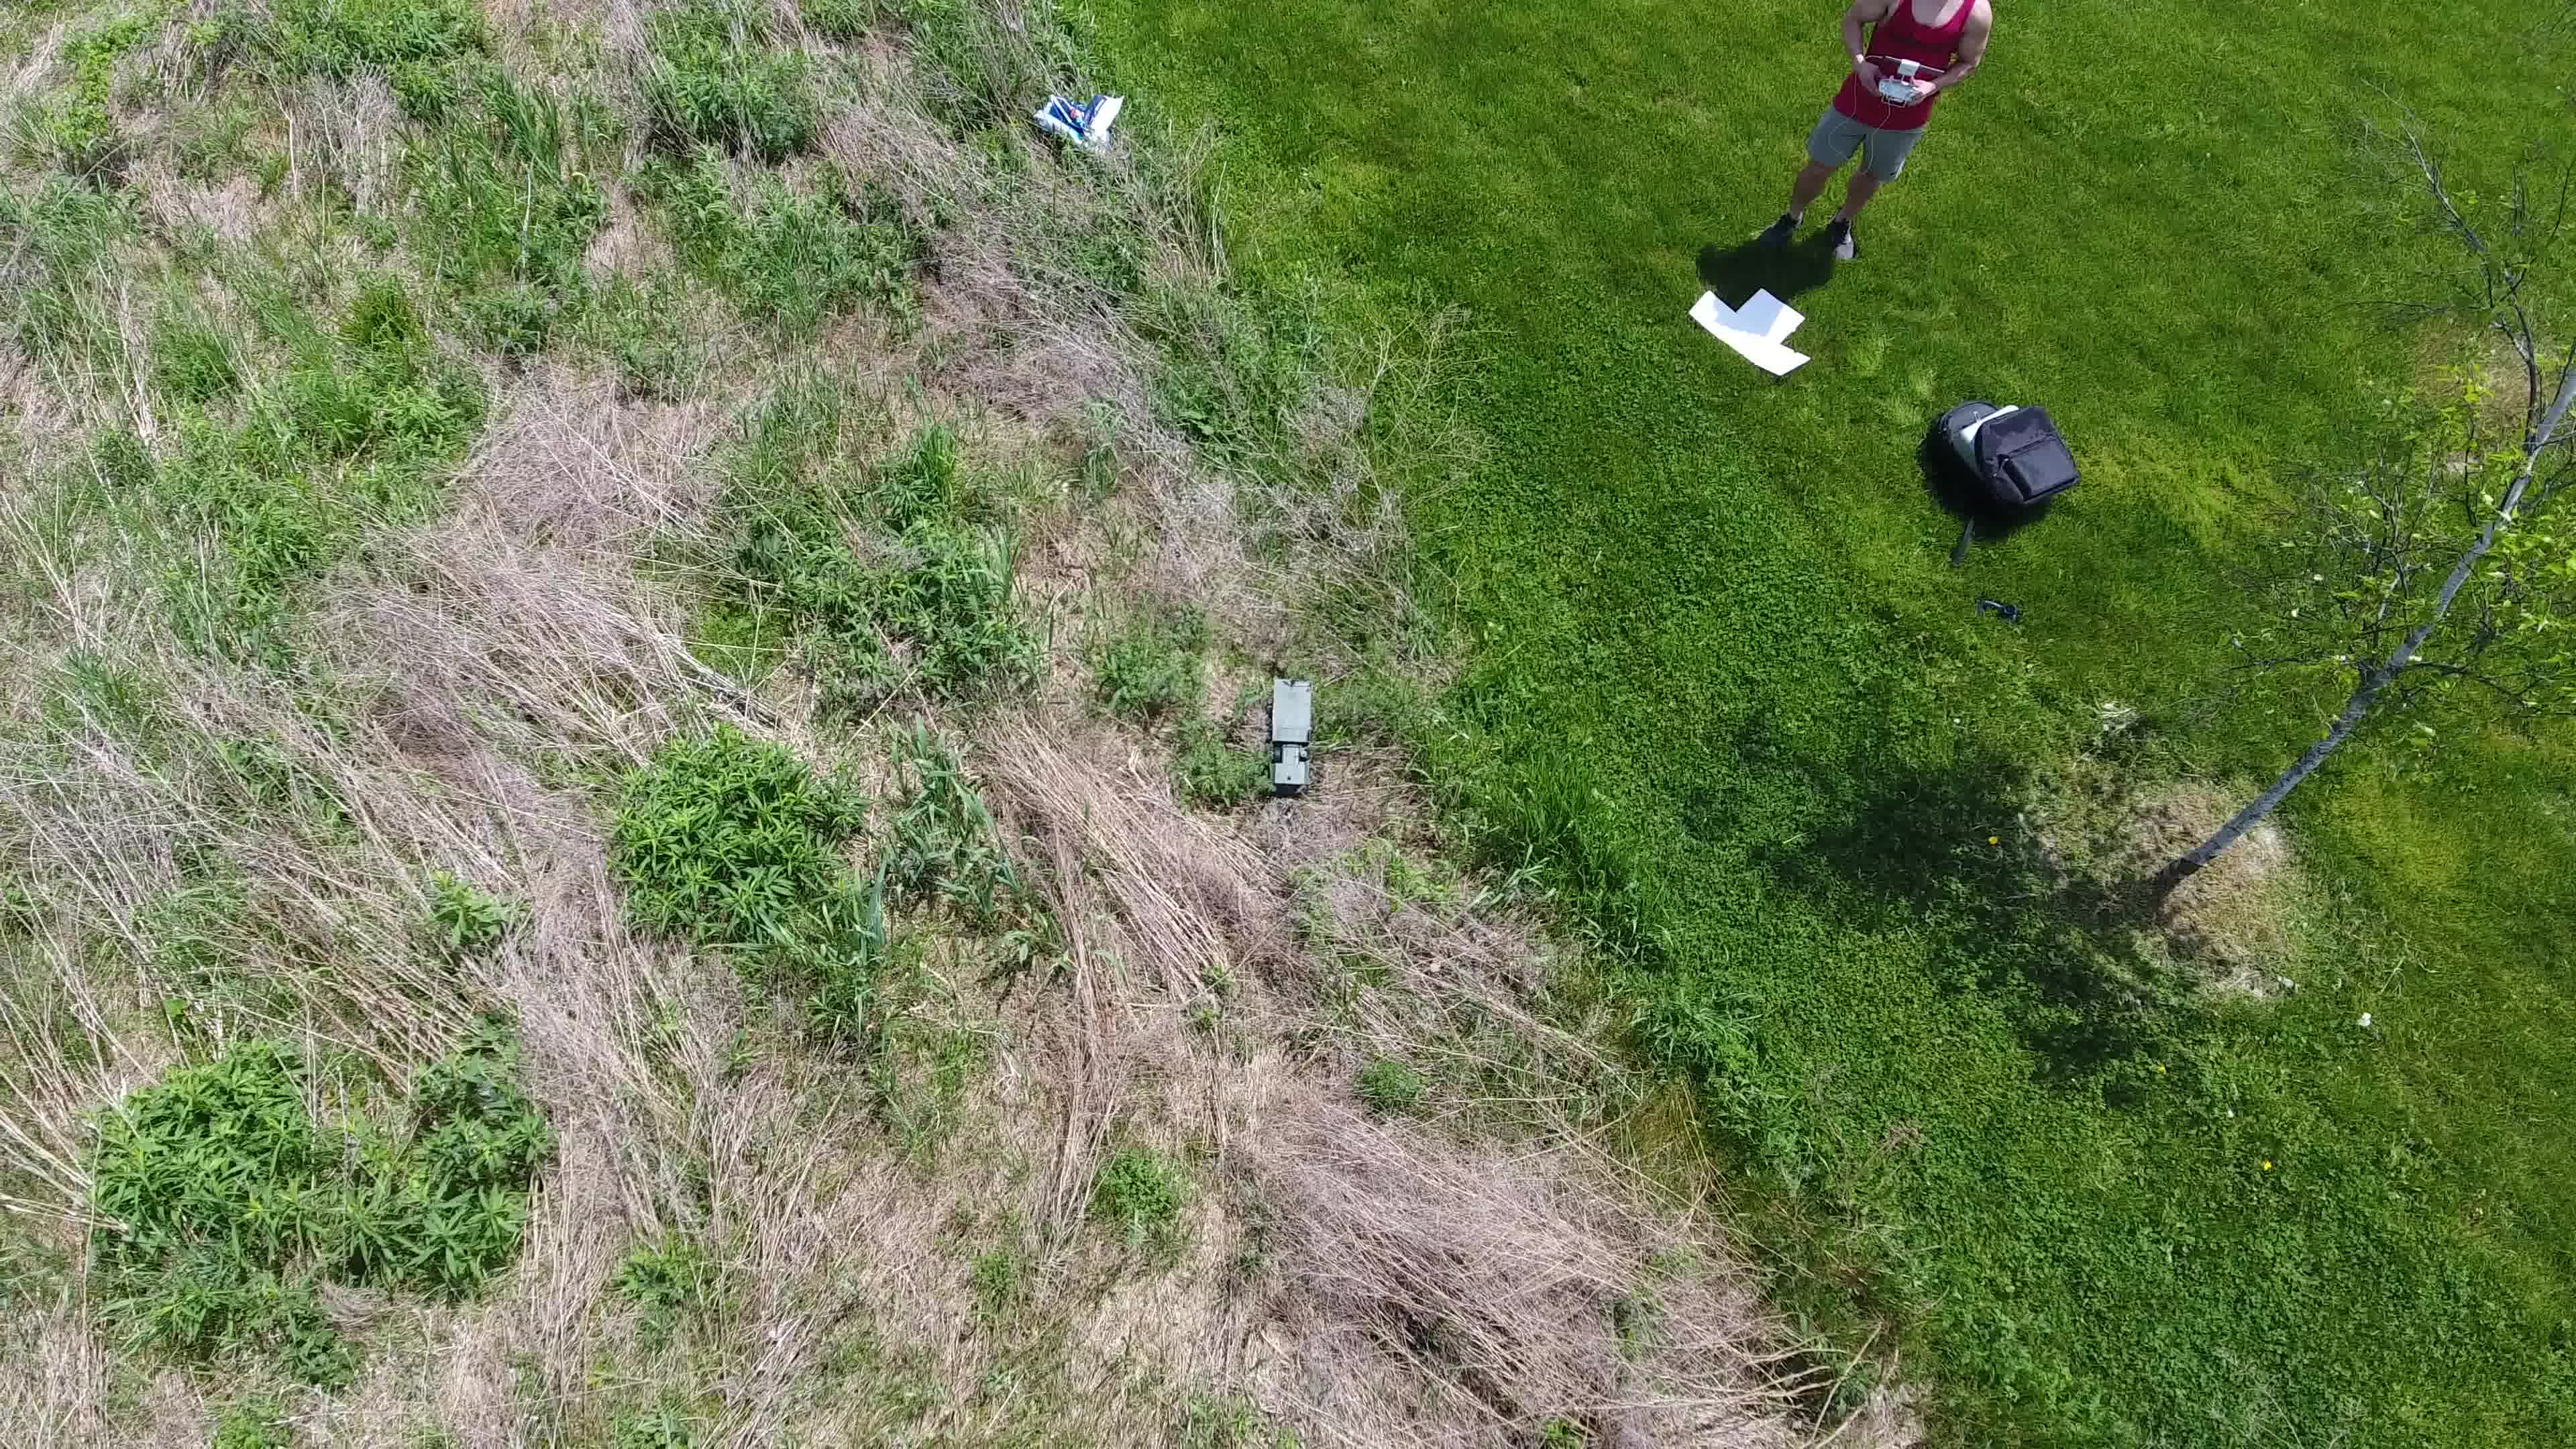transporter9: (1263, 671, 1316, 791)
